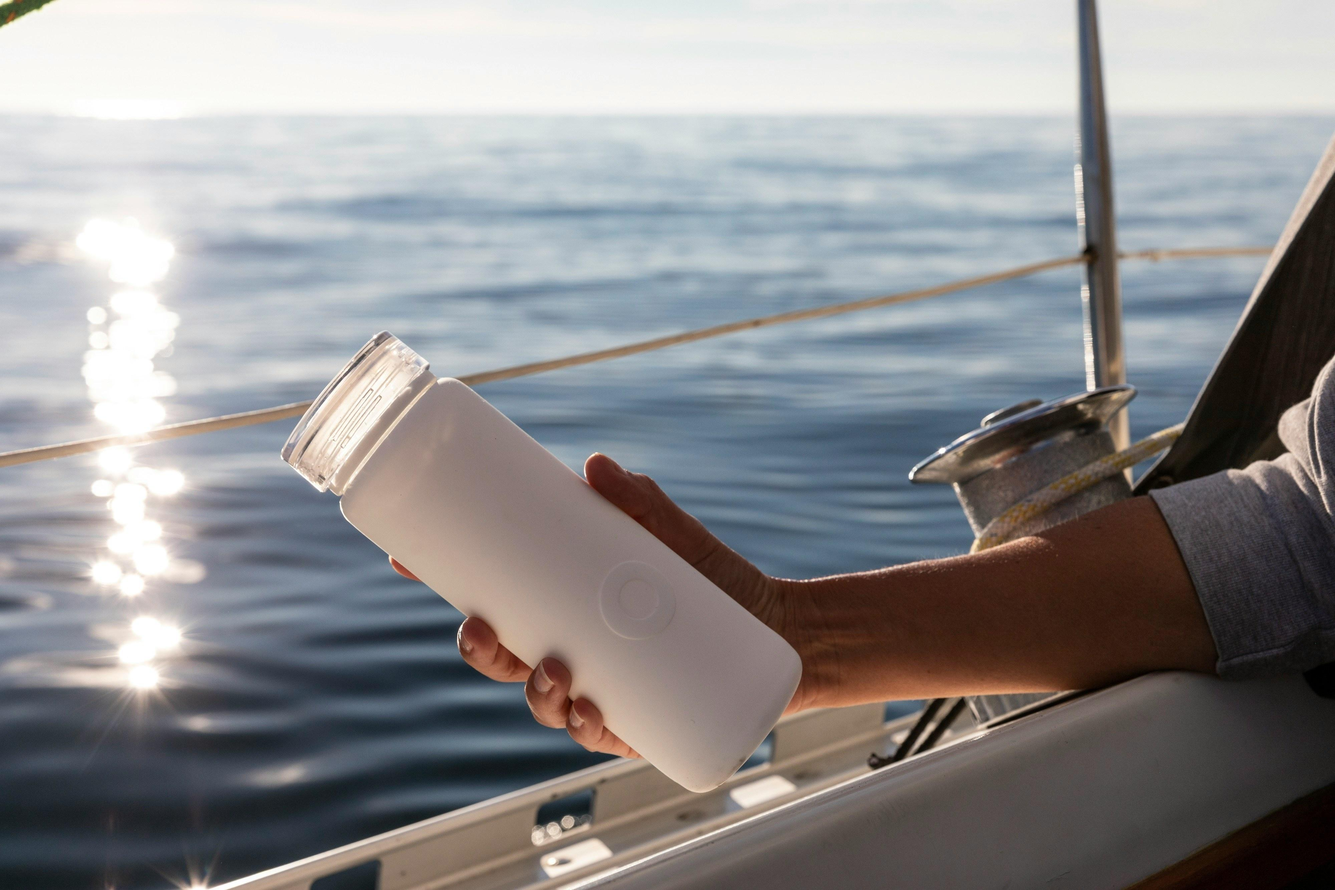Bottle-Detection: (239, 290, 828, 811)
